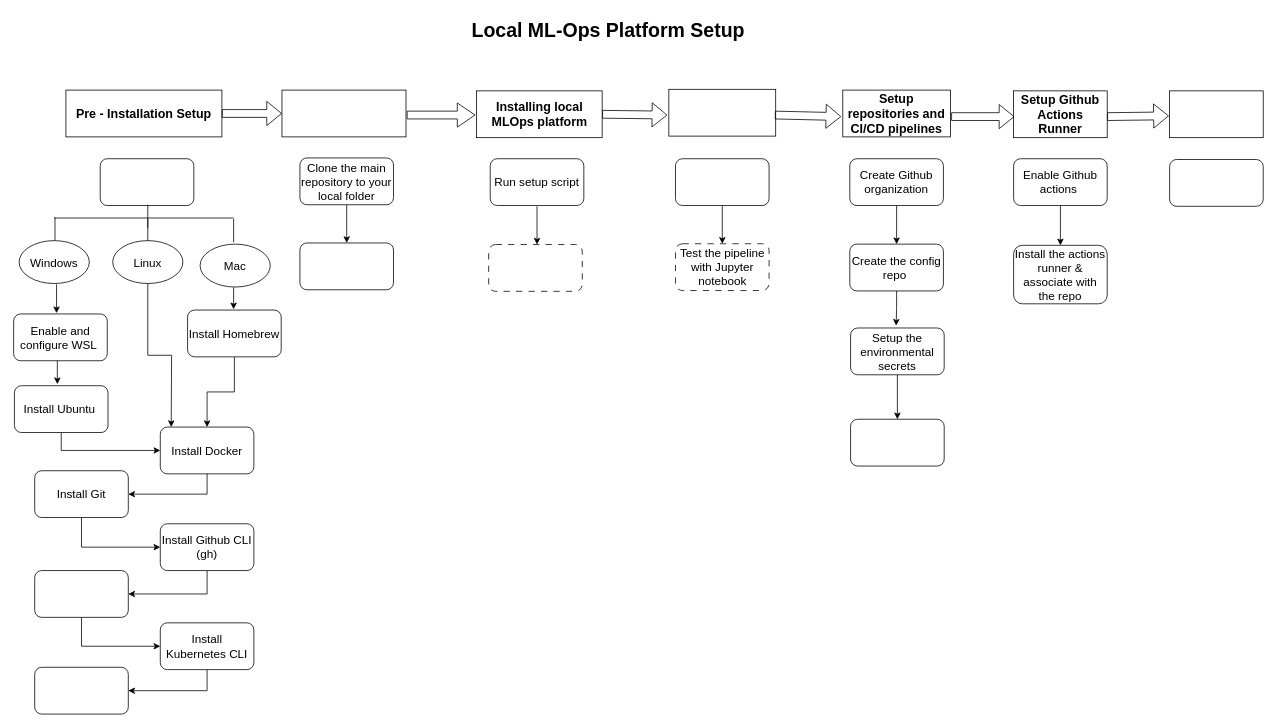
Some shapes in this 1277 by 728 pixel diagram are drawn without their labels. The shapes that lost their labels are listed below. From the top down, each one's centre as x and y in pixels, then its label:
the point at 343,113: Cloning the repo & gh authentication
the point at 722,112: Portforwarding the Kuberlow pods
the point at 1216,114: Start the run on MLOps platform
the point at 146,182: Check System Requirements
the point at 722,182: Forward the pods
the point at 1216,182: Make a commit to the working repo
the point at 346,266: Authentication with Github
the point at 535,267: Verify Kubernetes Pods
the point at 897,442: Create the working repo
the point at 81,593: Install Python and pip
the point at 81,690: Install Jupyter Notebook
